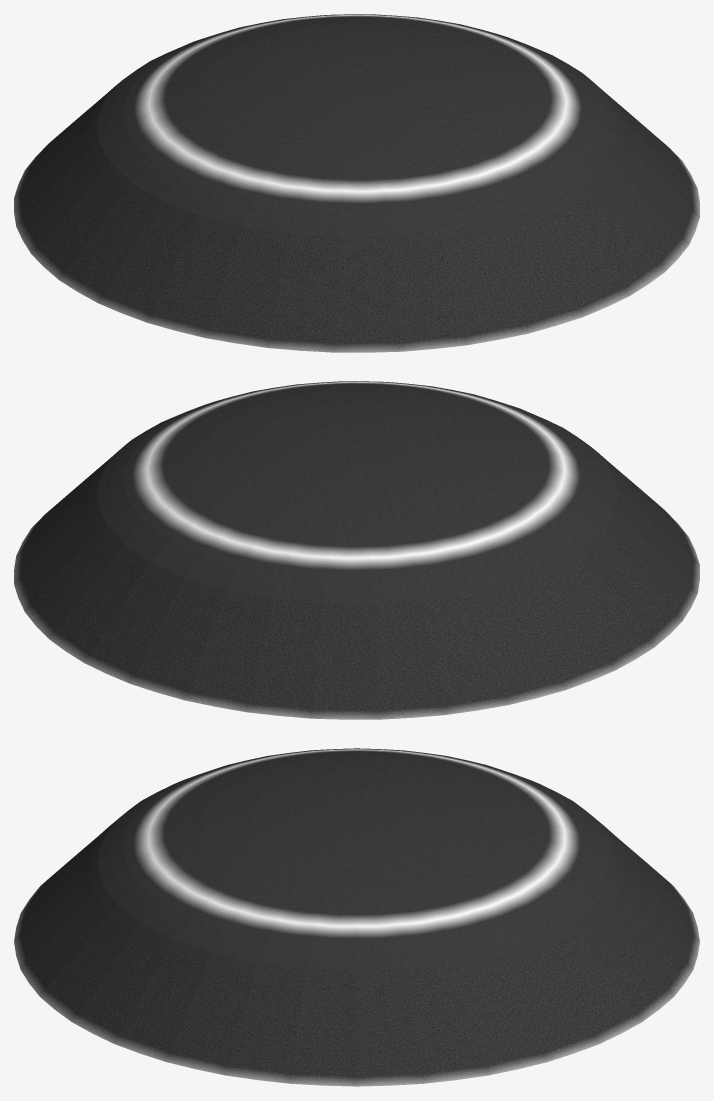
File: portal.fbx
3 renders of one model, top to bottom at view 1: azimuth 30°, elevation 25°; view 2: azimuth 150°, elevation 25°; view 3: azimuth 270°, elevation 25°, orthographic.
Visible parts, largest first — view 1: Portal; view 2: Portal; view 3: Portal.
Part boxes in pixels (x1=…): Portal: x1=14, y1=14, x2=699, y2=352; Portal: x1=14, y1=381, x2=699, y2=719; Portal: x1=14, y1=748, x2=699, y2=1086.
Size of the model in its own units: 365 by 77.48 by 365.
